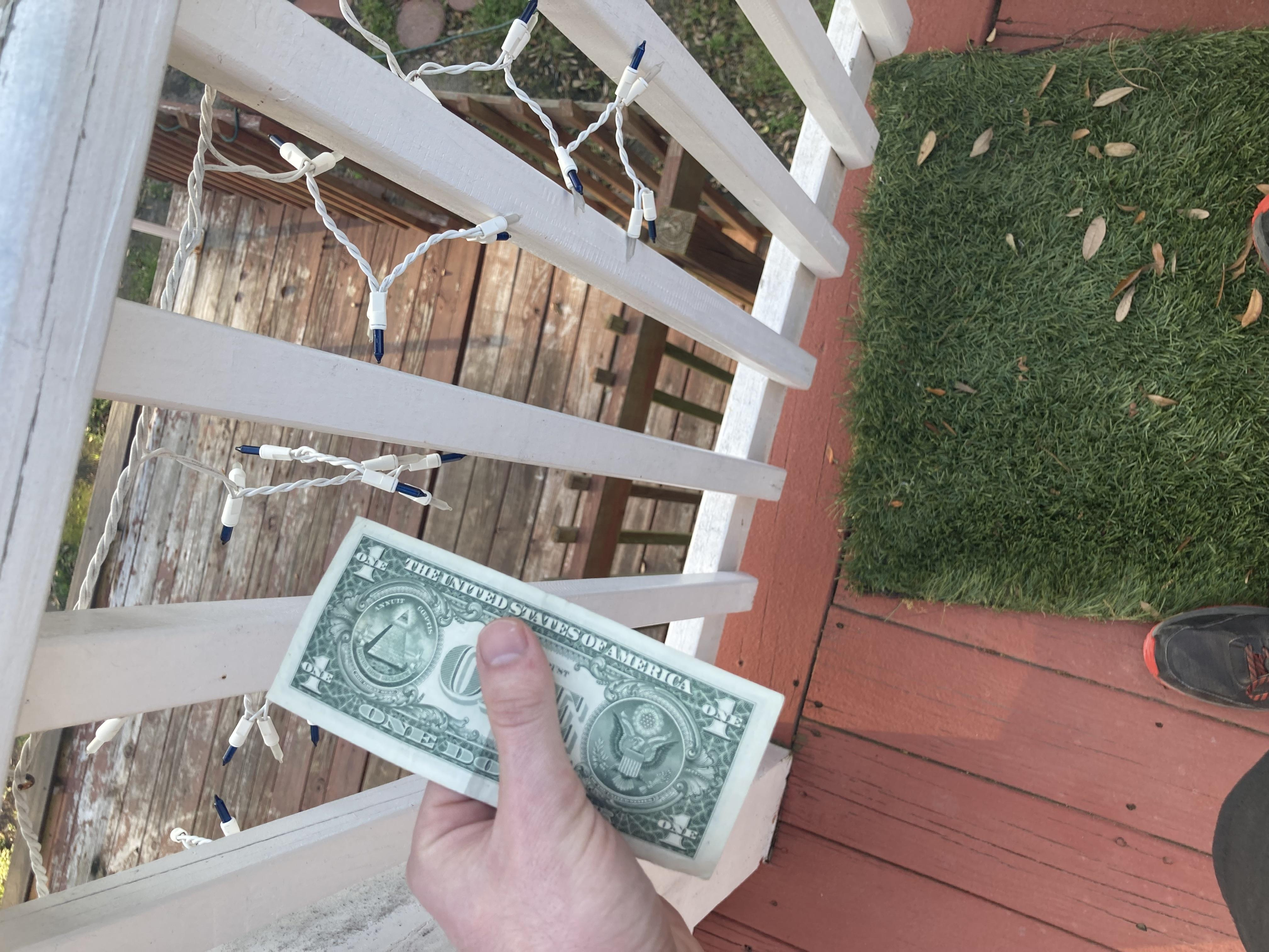one-back: (96, 200, 583, 588)
